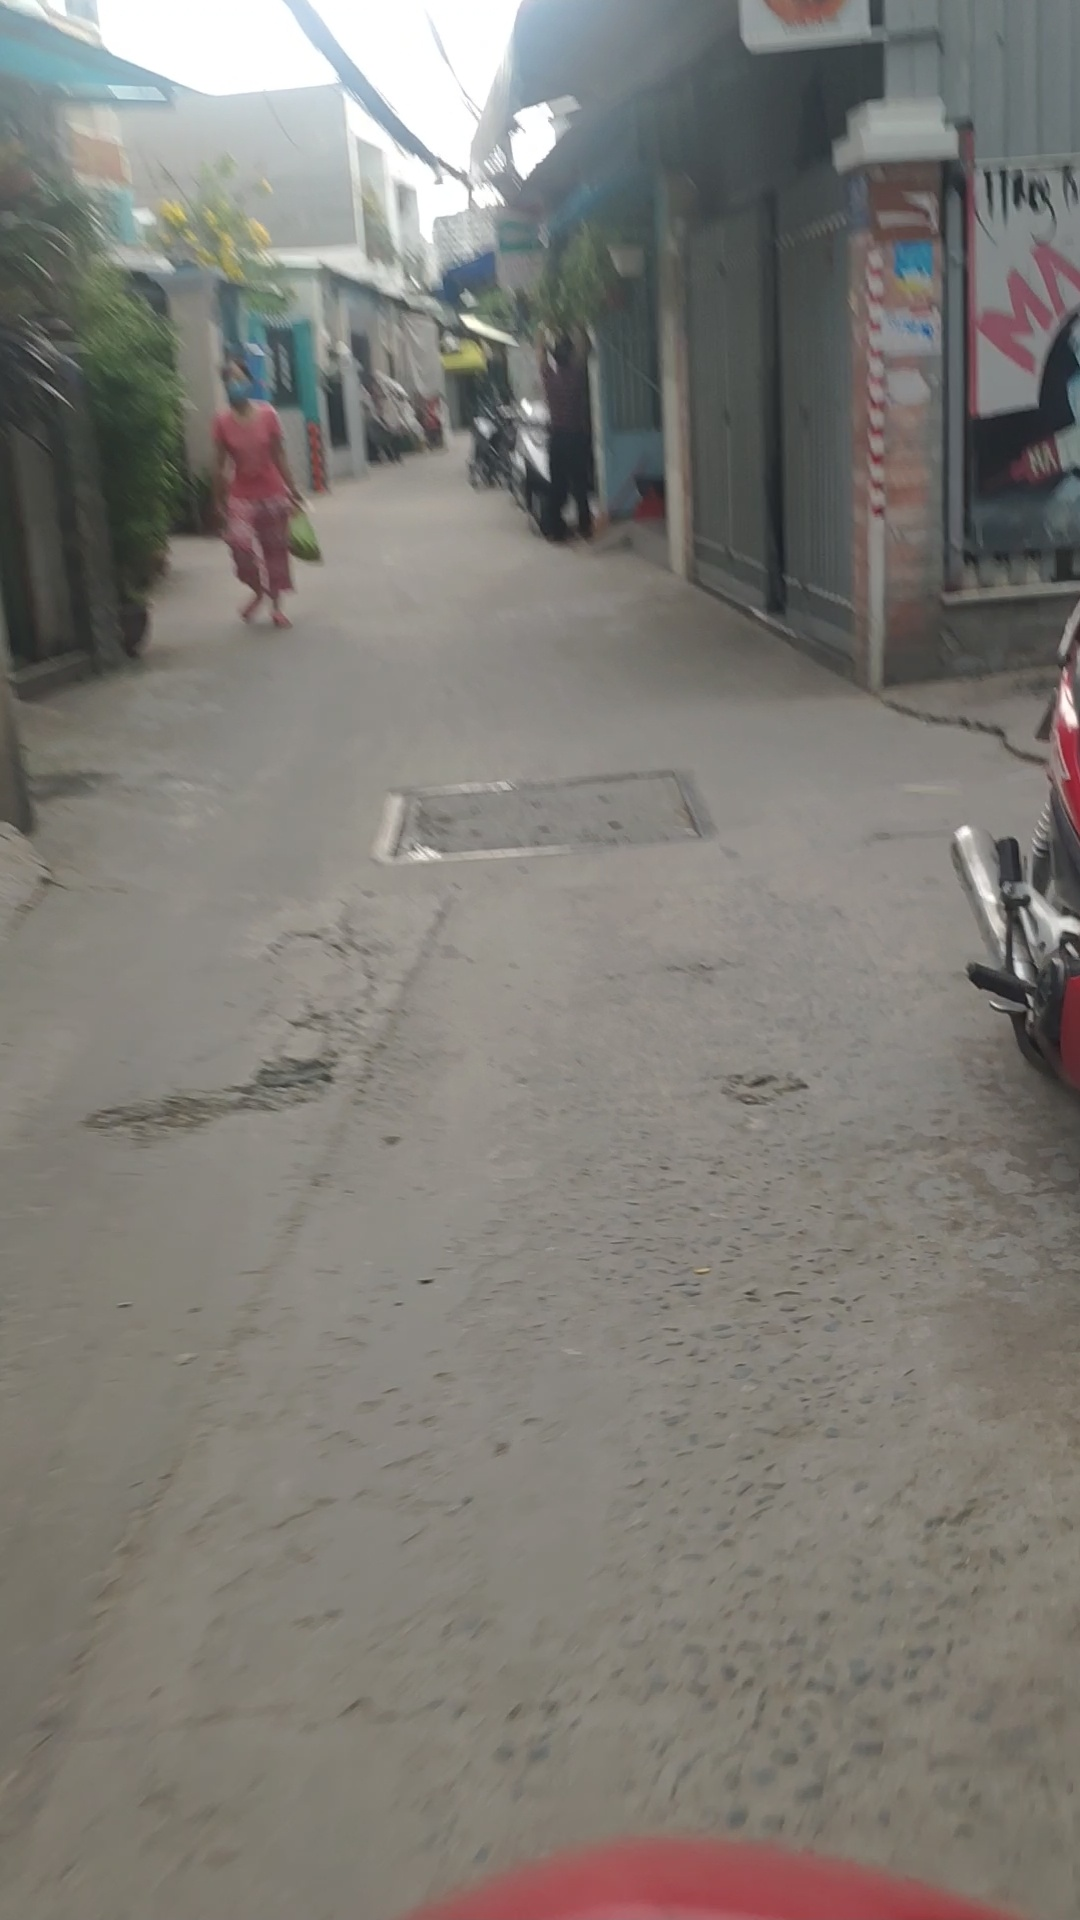hole: (67, 1044, 363, 1160), (248, 909, 389, 1036), (702, 1062, 820, 1120)
